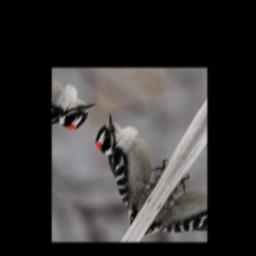Woodpecker: (66, 111, 177, 226)
